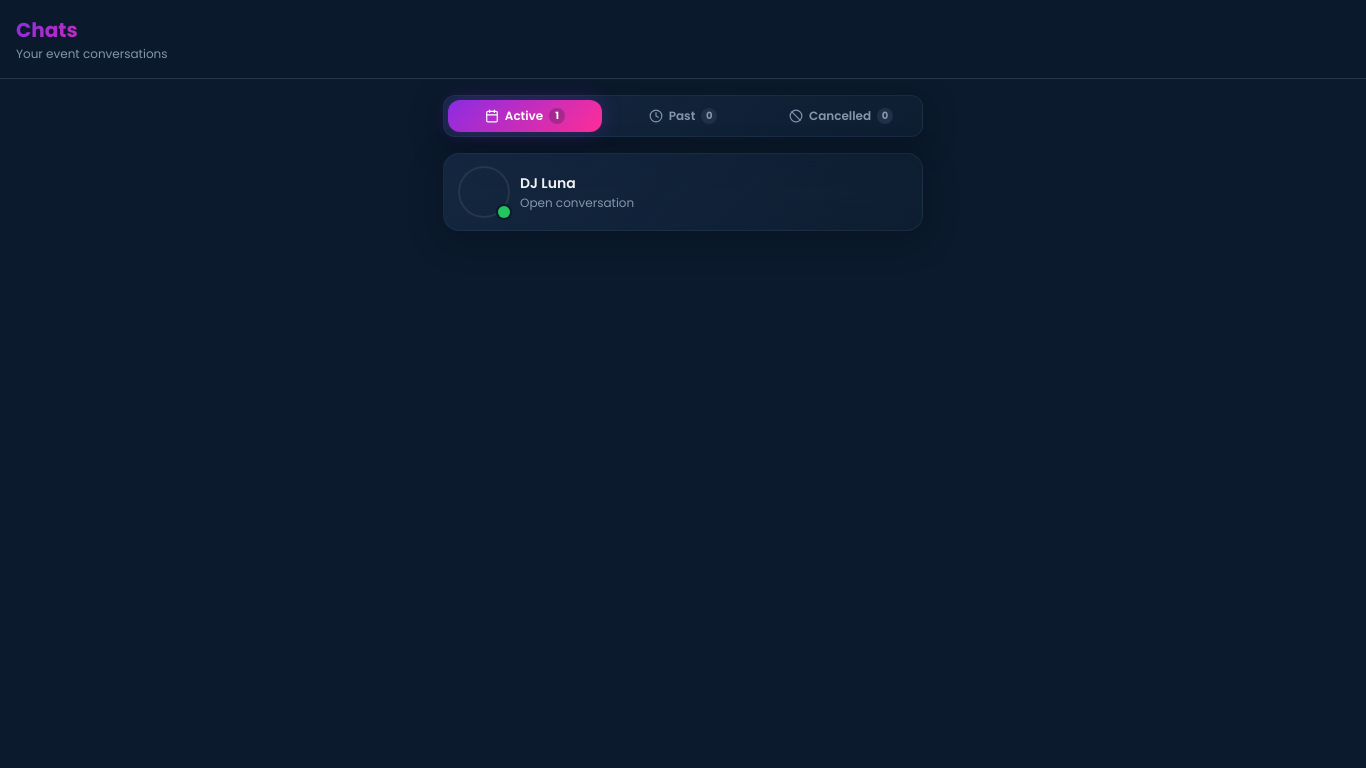
Scenario: ChatPage › opens an event conversation and sends a message via the chat API
The image size is (1366, 768).
Click the button "DJ Luna Open conversation": (484, 192) [443,153,923,231]
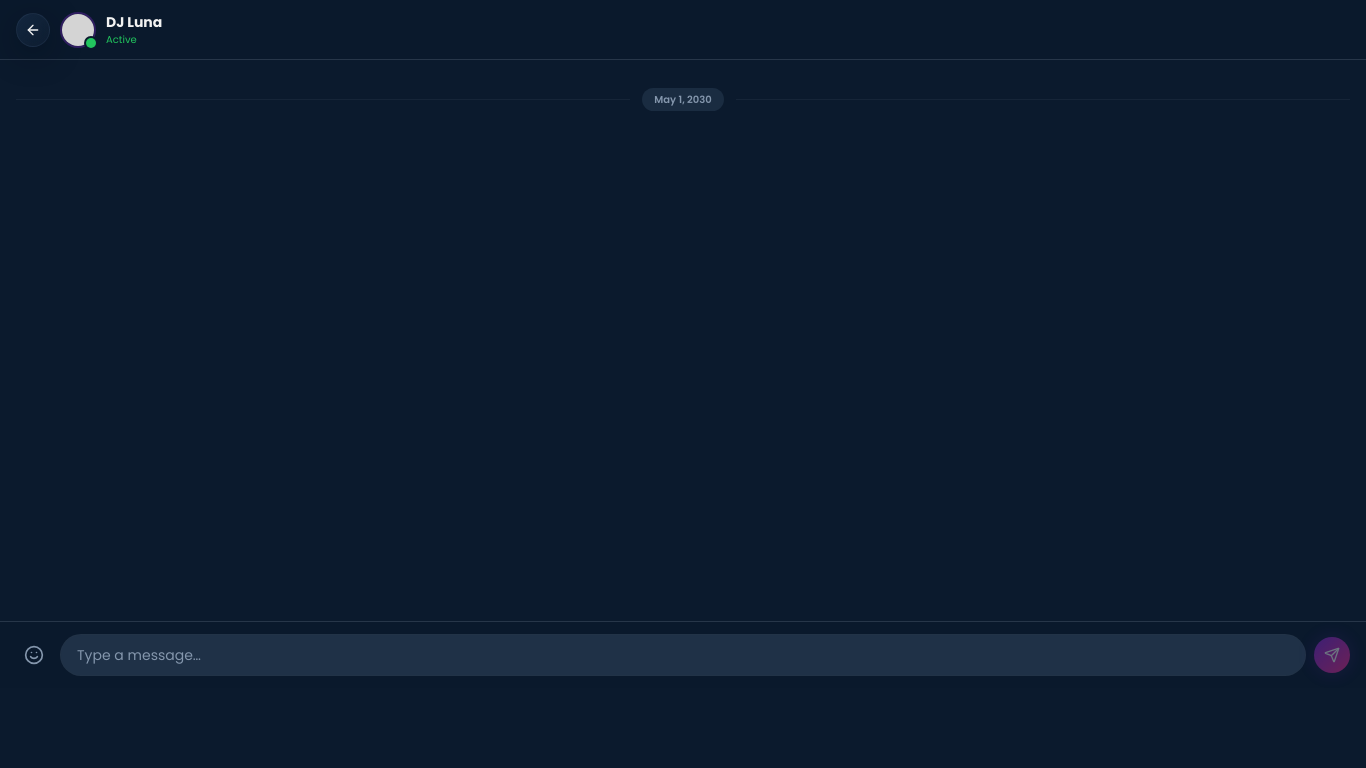
In the field with placeholder "Type a message…": (683, 655) [60,634,1306,676], type "Hello from test"
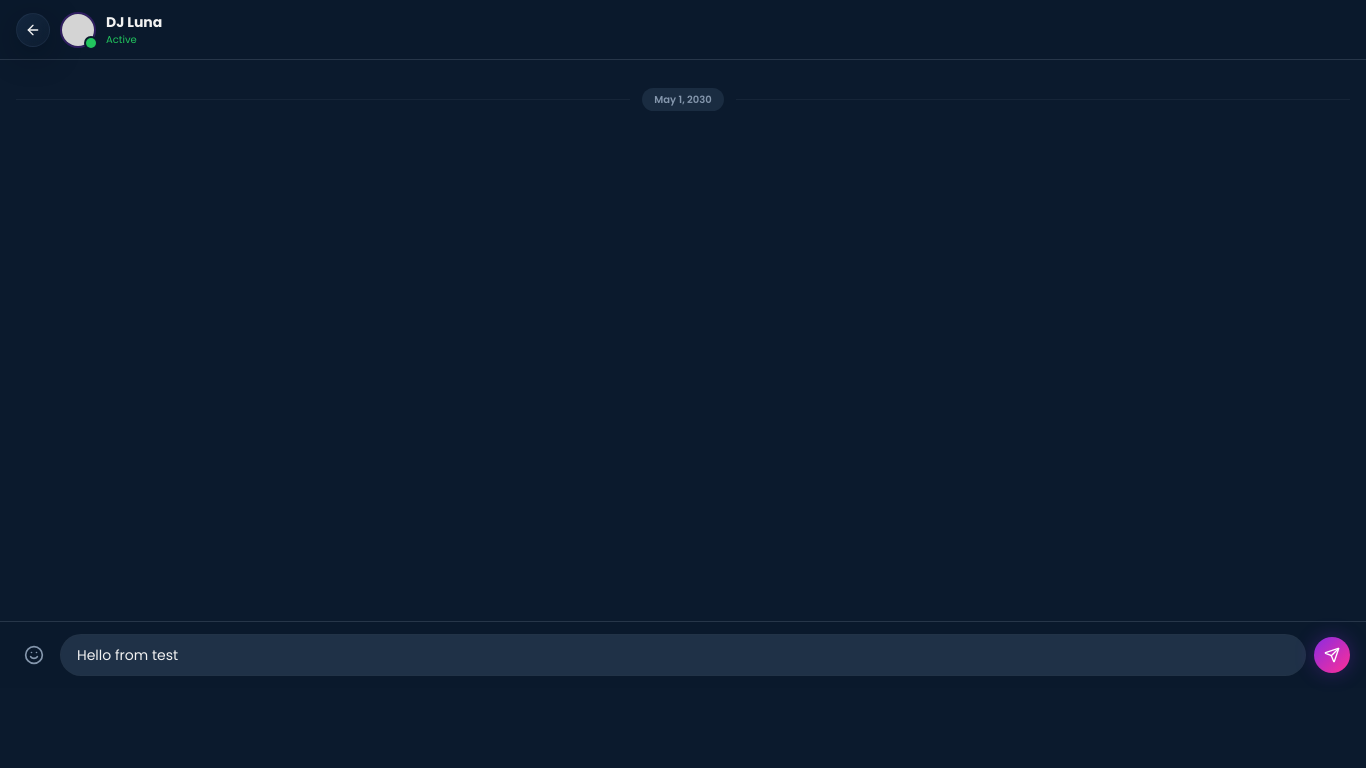
Press Enter in the field with placeholder "Type a message…", box [60,634,1306,676]
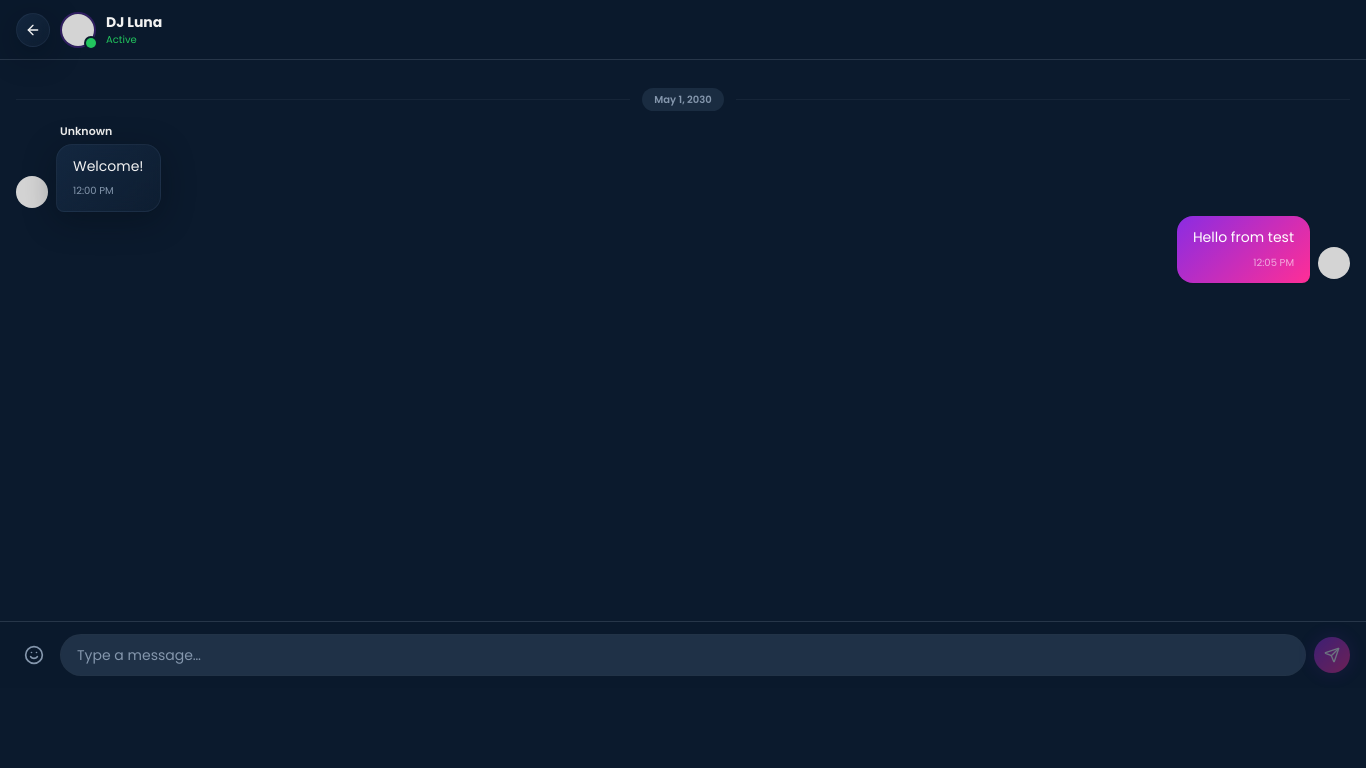
Expected: the text "Hello from test" is shown, [1193,226,1294,249]
Expected: the field with placeholder "Type a message…" is empty, [60,634,1306,676]
